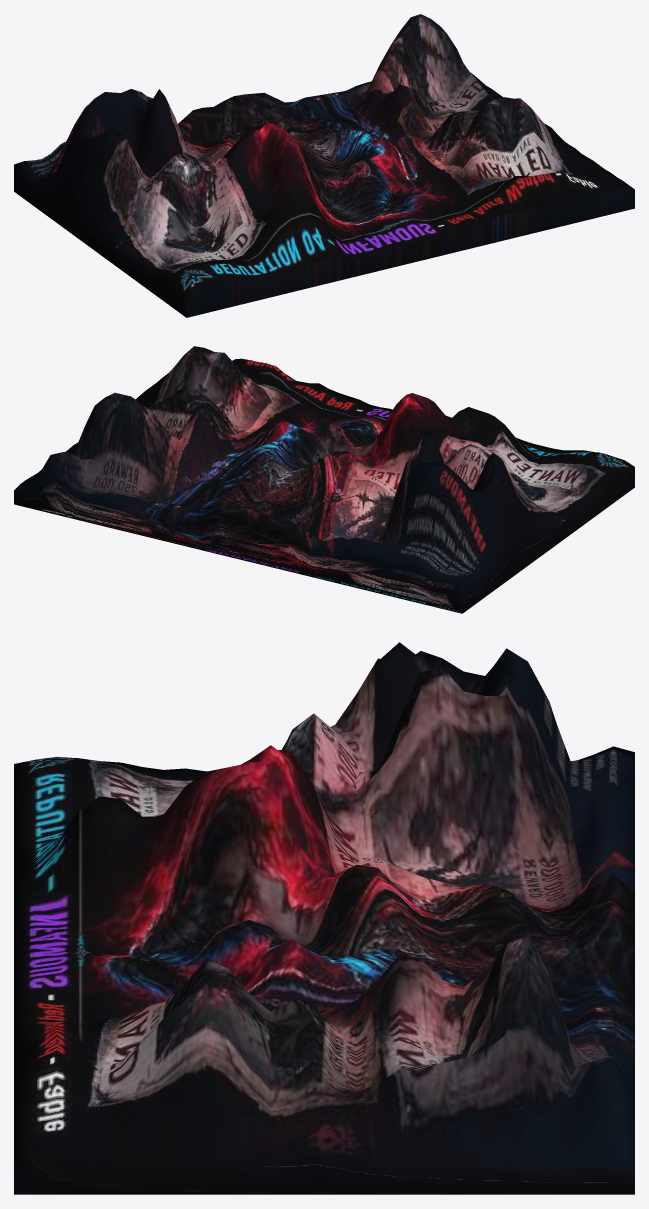
Rendered from REPUTATION_04_Infamous.glb.
3 renders of one model, top to bottom at view 1: azimuth 30°, elevation 25°; view 2: azimuth 150°, elevation 25°; view 3: azimuth 270°, elevation 25°, orthographic. The views are drawn at different scales.
Visible parts, largest first — view 1: REPUTATION_04_Infamous; view 2: REPUTATION_04_Infamous; view 3: REPUTATION_04_Infamous.
Boxes of the visible parts, box(x1,y1,x2,y2) form: REPUTATION_04_Infamous: box(14, 14, 634, 317); REPUTATION_04_Infamous: box(14, 346, 634, 613); REPUTATION_04_Infamous: box(14, 642, 634, 1194).
Bounding box in the file's own units: 2 × 0.51 × 1.33.
Materials: 1 (1 with a texture image).
